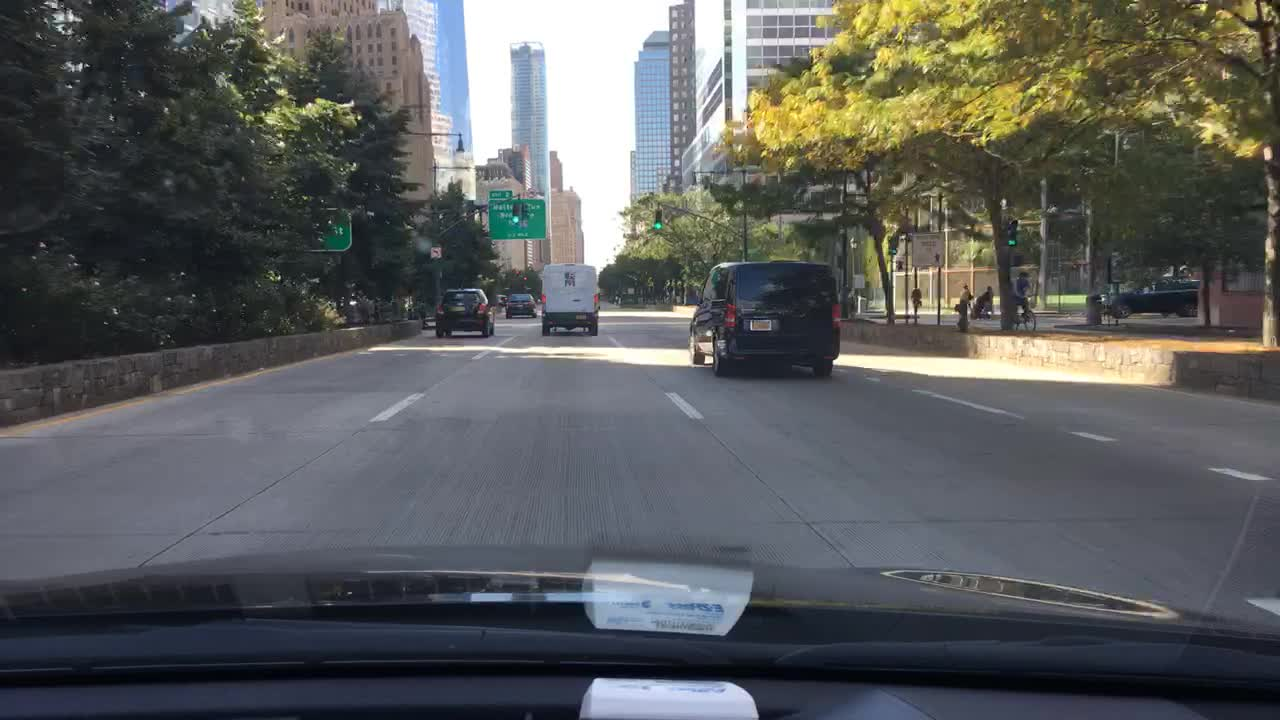bike: (1005, 295, 1037, 333)
car: (687, 255, 837, 384), (1098, 272, 1198, 319), (432, 286, 493, 338), (503, 292, 536, 319)
person: (909, 284, 924, 314), (981, 285, 994, 316), (960, 283, 973, 312)
rider: (1012, 269, 1031, 316)
traffic light: (1005, 221, 1019, 244), (890, 236, 899, 258), (512, 200, 520, 223), (655, 206, 662, 226), (513, 196, 518, 222), (524, 200, 529, 223)
traffic sign: (487, 200, 549, 241), (305, 206, 348, 253), (487, 190, 512, 200), (429, 244, 444, 256)
truck: (538, 258, 598, 336)
